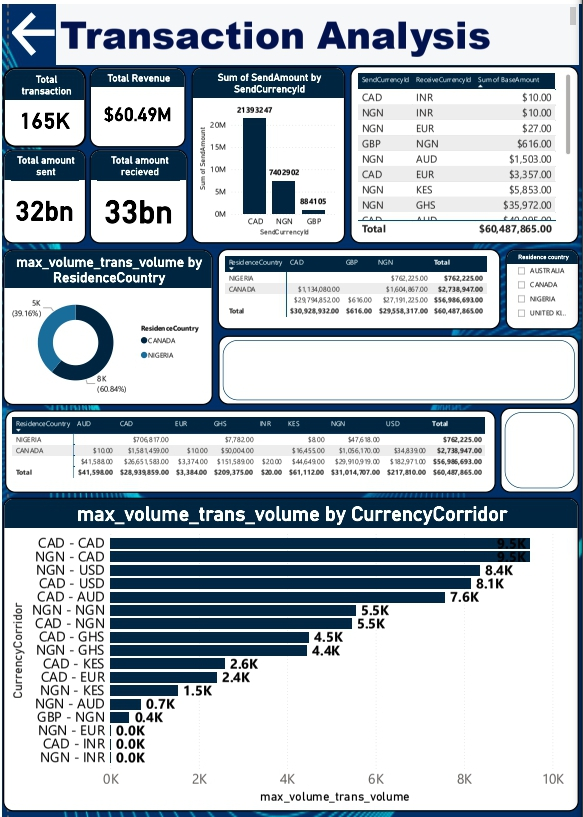

The page's visual inventory and layout, read from the dashboard file:
{"tool":"powerbi","page":{"name":"Transaction Analysis","canvas":[900,1269],"ordinal":3},"visuals":[{"type":"card","title":"Total transaction","fields":{"Values":["Transactions_Table1 - Transactions_Table.Total_Transaction"]},"box":[0,98.9,130.2,125],"z":0},{"type":"card","title":"Total Revenue","fields":{"Values":["Sum(Transactions_Table1 - Transactions_Table.BaseAmount)"]},"box":[135.4,98.9,150,125],"z":1000},{"type":"card","title":"Total amount sent","fields":{"Values":["Sum(Transactions_Table1 - Transactions_Table.SendAmount)"]},"box":[0,227.1,130.2,146.9],"z":2000},{"type":"card","title":"Total amount recieved","fields":{"Values":["Sum(Transactions_Table1 - Transactions_Table.ReceiveAmount)"]},"box":[135.4,227.1,153.1,146.9],"z":3000},{"type":"columnChart","fields":{"Category":["Transactions_Table1 - Transactions_Table.SendCurrencyId"],"Y":["Sum(Trans_AMT_CAD.SendAmount)"]},"box":[294.8,97.9,239.6,276],"z":4000},{"type":"tableEx","fields":{"Values":["Transactions_Table1 - Transactions_Table.SendCurrencyId","Transactions_Table1 - Transactions_Table.ReceiveCurrencyId","Sum(Transactions_Table1 - Transactions_Table.BaseAmount)"]},"box":[542.7,96.8,357.3,277.1],"z":5000},{"type":"pivotTable","fields":{"Rows":["Users_Table1 - Users_Table.ResidenceCountry"],"Columns":["Transactions_Table1 - Transactions_Table.SendCurrencyId"],"Values":["Sum(Transactions_Table1 - Transactions_Table.BaseAmount)"]},"box":[335.4,382.3,441.7,126],"z":6000},{"type":"donutChart","fields":{"Y":["Transactions_Table1 - Transactions_Table.max_volume_trans_volume"],"Category":["Users_Table1 - Users_Table.ResidenceCountry"]},"box":[0,383.3,328.1,242.7],"z":7000},{"type":"slicer","title":"Residence country","fields":{"Values":["Users_Table1 - Users_Table.ResidenceCountry"]},"box":[785.4,382.3,114.6,126],"z":8000},{"type":"clusteredBarChart","fields":{"Category":["Transactions_Table1 - Transactions_Table.CurrencyCorridor"],"Y":["Transactions_Table1 - Transactions_Table.max_volume_trans_volume"]},"box":[0,770.8,900,489.6],"z":9000},{"type":"textbox","box":[83,0,817,94],"z":10000},{"type":"actionButton","box":[2.9,0,100,94.2],"z":11000},{"type":"pivotTable","fields":{"Rows":["Users_Table1 - Users_Table.ResidenceCountry"],"Values":["Sum(Transactions_Table1 - Transactions_Table.BaseAmount)"],"Columns":["Transactions_Table1 - Transactions_Table.ReceiveCurrencyId"]},"box":[3.1,634.4,766.7,129.2],"z":12000},{"type":"shape","box":[336.5,517.7,563.5,108.3],"z":13000},{"type":"shape","box":[777.1,630.2,122.9,133.3],"z":14000}]}

Visuals, with their boxes in screenshot pixels (x1, y1, x2, y2), scaled from the page's 900x1269 canvas onto the 583x817 screenshot:
"Total transaction" card: pyautogui.locateOnScreen(0, 64, 84, 144)
"Total Revenue" card: pyautogui.locateOnScreen(88, 64, 185, 144)
"Total amount sent" card: pyautogui.locateOnScreen(0, 146, 84, 241)
"Total amount recieved" card: pyautogui.locateOnScreen(88, 146, 187, 241)
columnChart - Transactions_Table1 - Transactions_Table.SendCurrencyId x Sum(Trans_AMT_CAD.SendAmount): pyautogui.locateOnScreen(191, 63, 346, 241)
tableEx - Transactions_Table1 - Transactions_Table.SendCurrencyId x Transactions_Table1 - Transactions_Table.ReceiveCurrencyId: pyautogui.locateOnScreen(352, 62, 582, 241)
pivotTable - Users_Table1 - Users_Table.ResidenceCountry x Transactions_Table1 - Transactions_Table.SendCurrencyId: pyautogui.locateOnScreen(217, 246, 503, 327)
donutChart - Transactions_Table1 - Transactions_Table.max_volume_trans_volume x Users_Table1 - Users_Table.ResidenceCountry: pyautogui.locateOnScreen(0, 247, 213, 403)
"Residence country" slicer: pyautogui.locateOnScreen(509, 246, 582, 327)
clusteredBarChart - Transactions_Table1 - Transactions_Table.CurrencyCorridor x Transactions_Table1 - Transactions_Table.max_volume_trans_volume: pyautogui.locateOnScreen(0, 496, 582, 811)
textbox: pyautogui.locateOnScreen(54, 0, 582, 61)
actionButton: pyautogui.locateOnScreen(2, 0, 67, 61)
pivotTable - Users_Table1 - Users_Table.ResidenceCountry x Sum(Transactions_Table1 - Transactions_Table.BaseAmount): pyautogui.locateOnScreen(2, 408, 499, 492)
shape: pyautogui.locateOnScreen(218, 333, 582, 403)
shape: pyautogui.locateOnScreen(503, 406, 582, 492)
